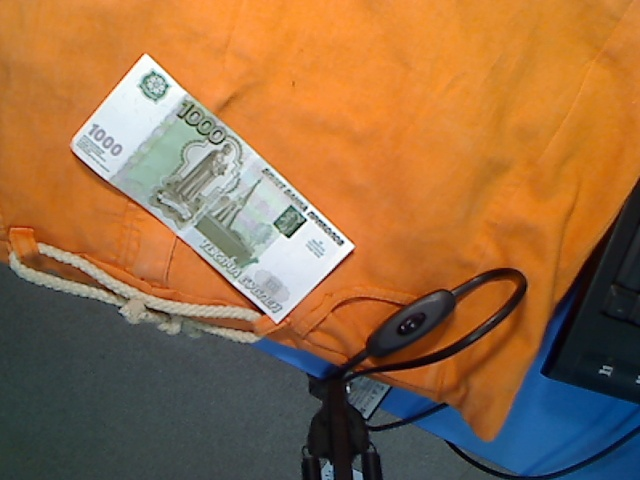banknotes: (67, 51, 358, 328)
